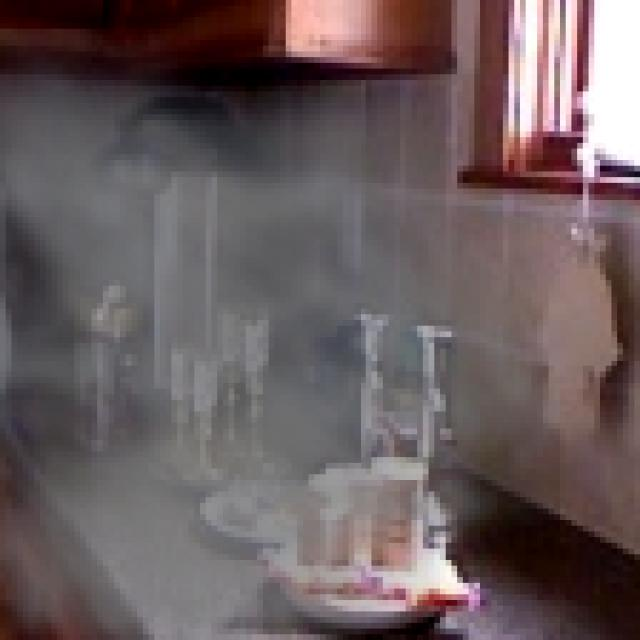smoke: (0, 28, 605, 640)
